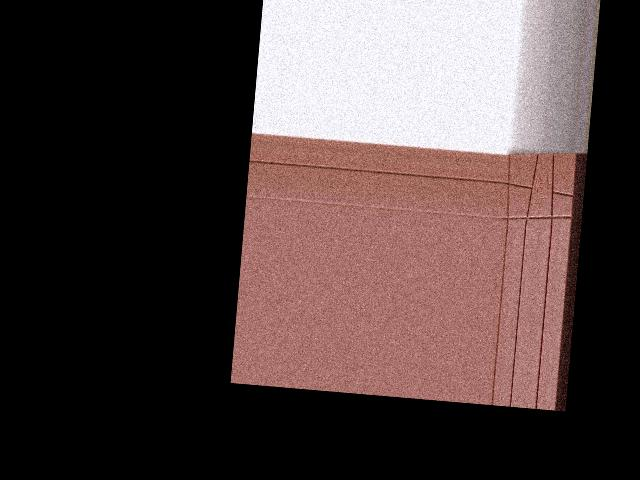chocolate: (500, 145, 581, 229)
